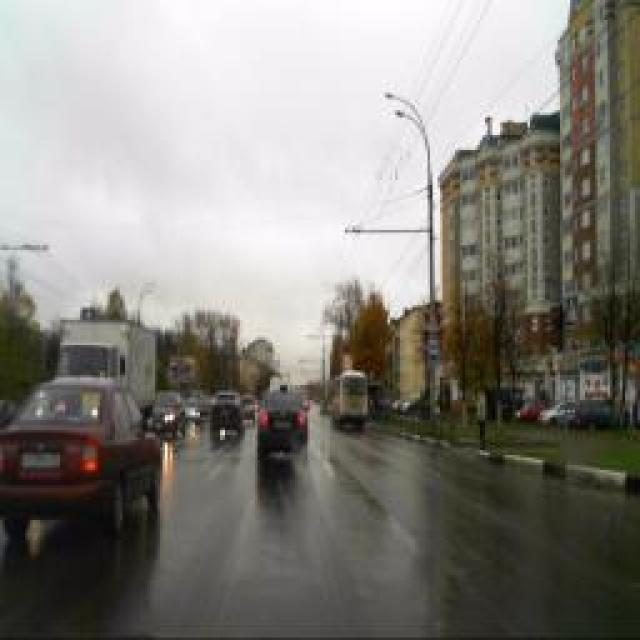sign: (426, 311, 439, 331)
